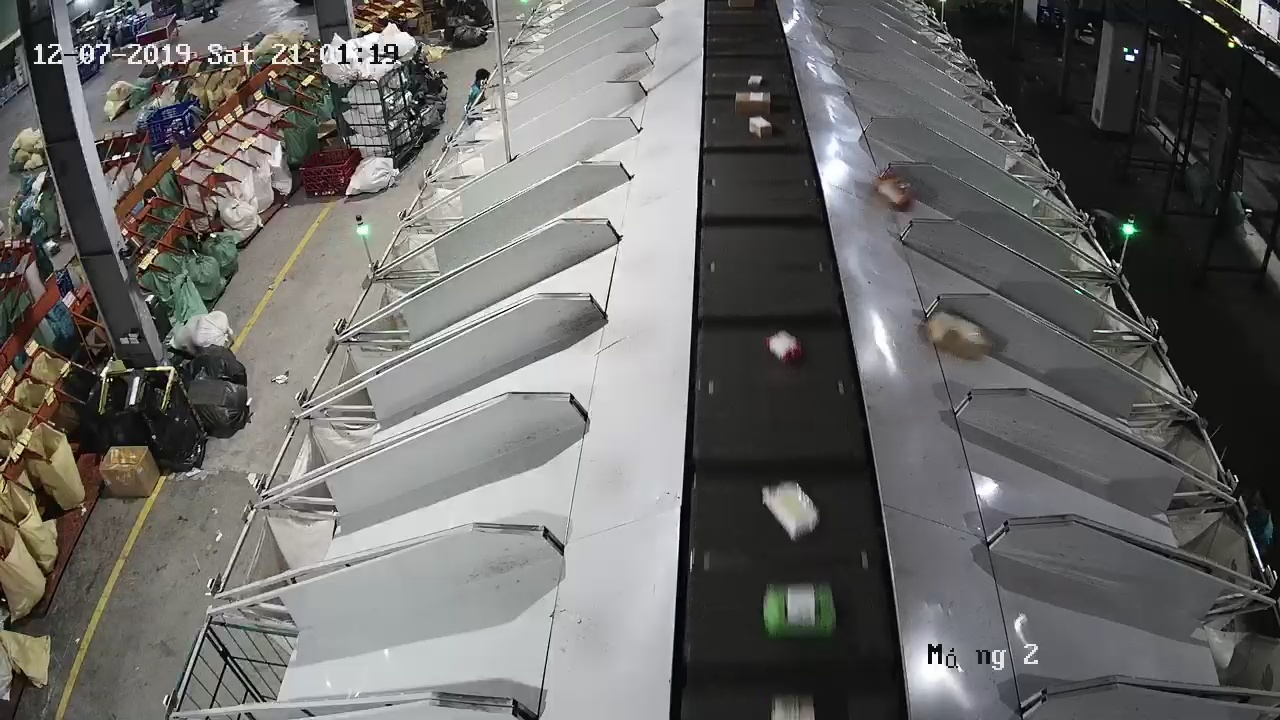parcel: (924, 311, 990, 363), (873, 170, 915, 212)
